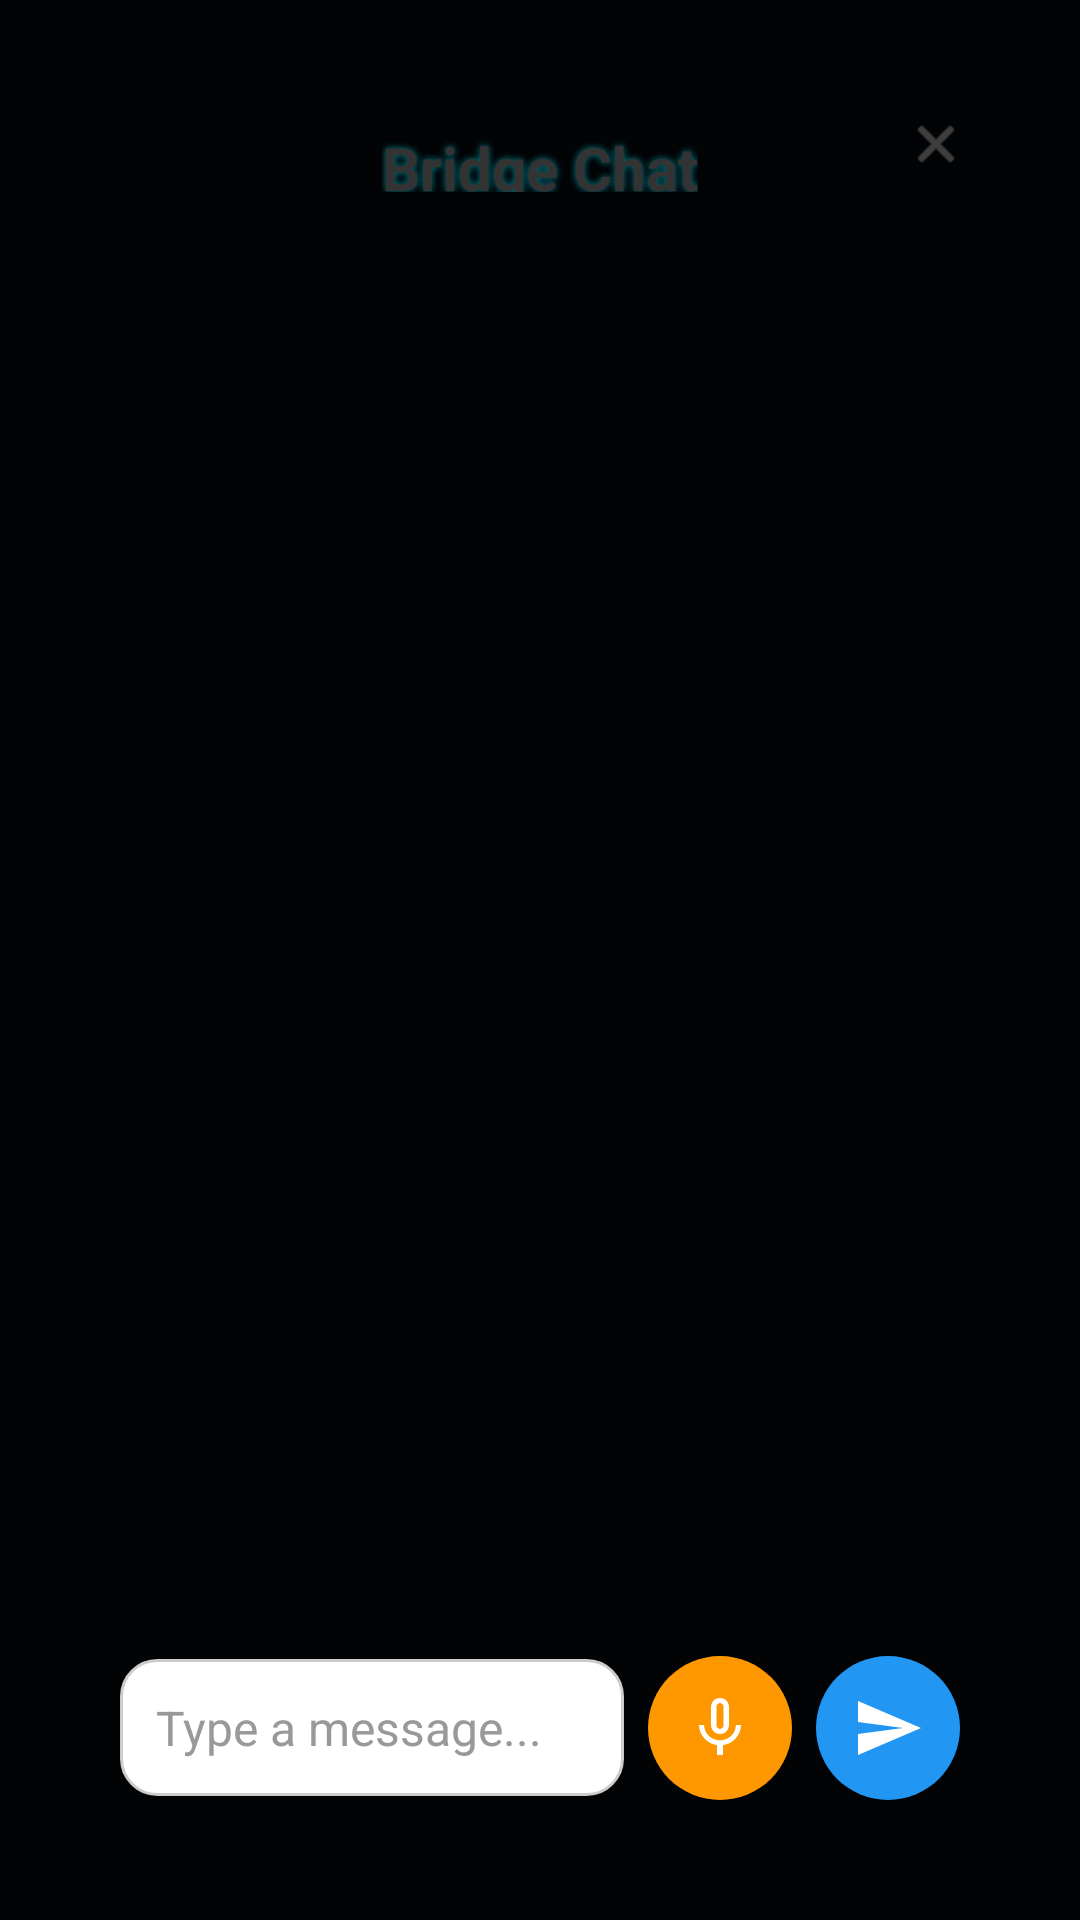

Screen size 1080w x 1920h. Icon name, then its box in pixels as (x1, y1, x2, y2):
Close: (918, 126, 954, 162)
Send message: (816, 1656, 960, 1800)
Voice input: (648, 1656, 792, 1800)
